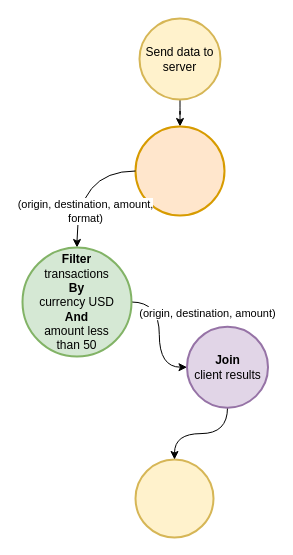
The diagram is 293 pixels wide and 555 high, and some of its shapes have lost their labels. Here are the shapes that lost their labels. From the top down, the centre of each, then its label:
[179,170]: Route client data
[174,498]: Send UC1 response to client
